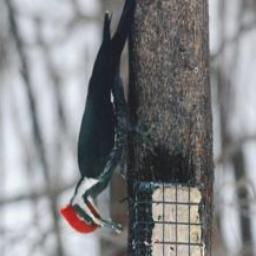Woodpecker: (60, 0, 158, 240)
